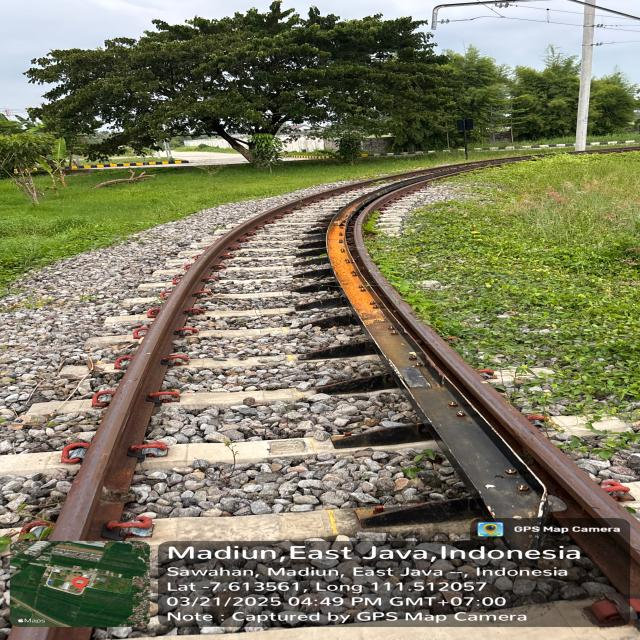rail-detection: (326, 181, 640, 609), (51, 201, 300, 540), (159, 156, 529, 329)
